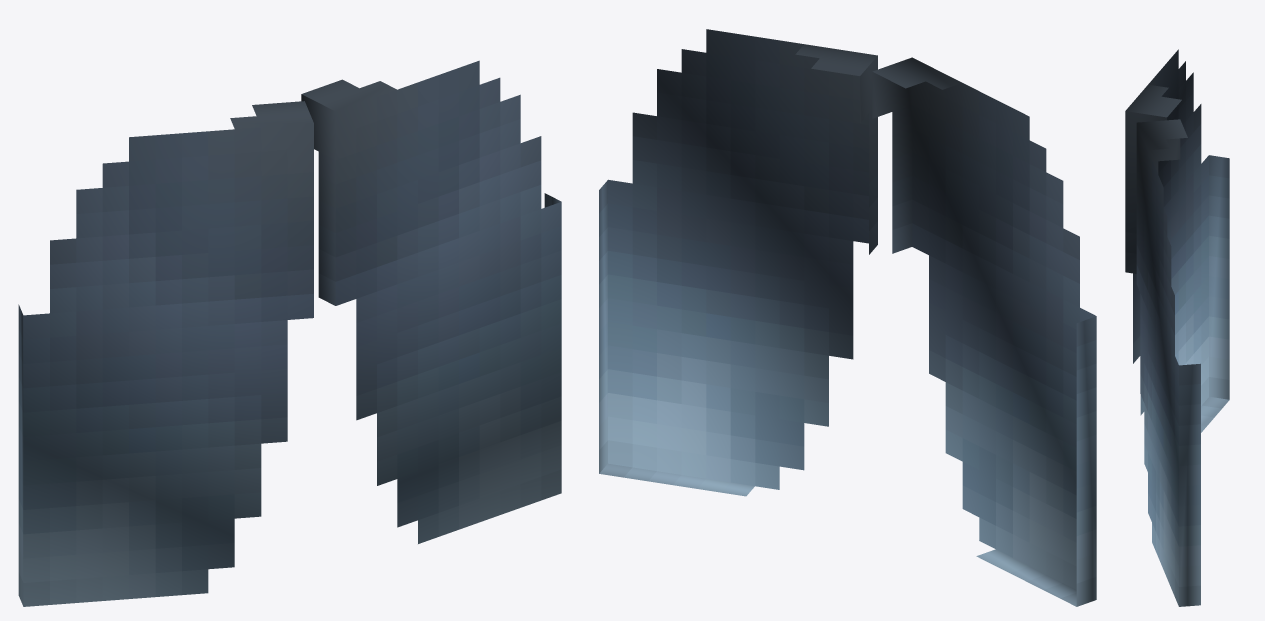
Rendered from SM_Elytra.glb.
3 views of the same model, side by side, from view 1: azimuth 30°, elevation 25°; view 2: azimuth 150°, elevation 25°; view 3: azimuth 270°, elevation 25° (orthographic). The views are drawn at different scales.
Parts seen in each view (by area): view 1: SM_Elytra.001; view 2: SM_Elytra.001; view 3: SM_Elytra.001.
Part boxes in pixels (x1,y1,x2,y2): SM_Elytra.001: (18,60,561,606); SM_Elytra.001: (599,29,1096,606); SM_Elytra.001: (1125,49,1229,606).
Size of the model in its own units: 140 by 119 by 35.26.
Materials: 1 (1 with a texture image).
